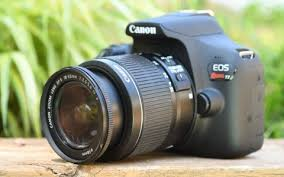camera: (44, 21, 264, 160)
